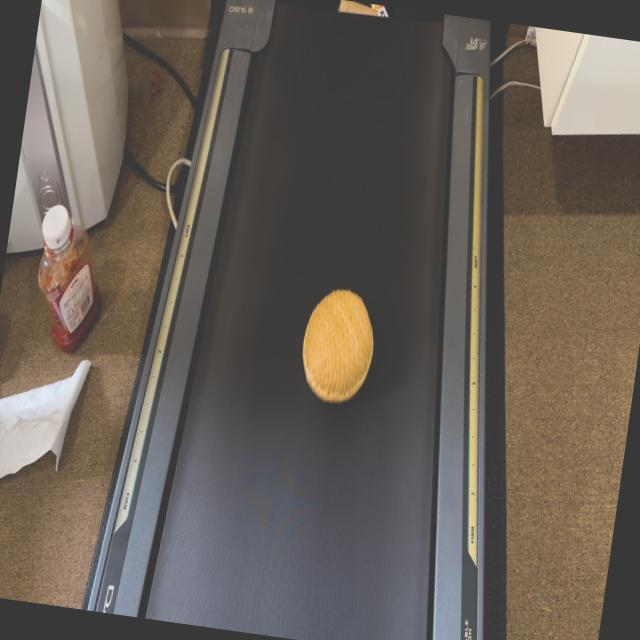Trash: (294, 283, 382, 409)
